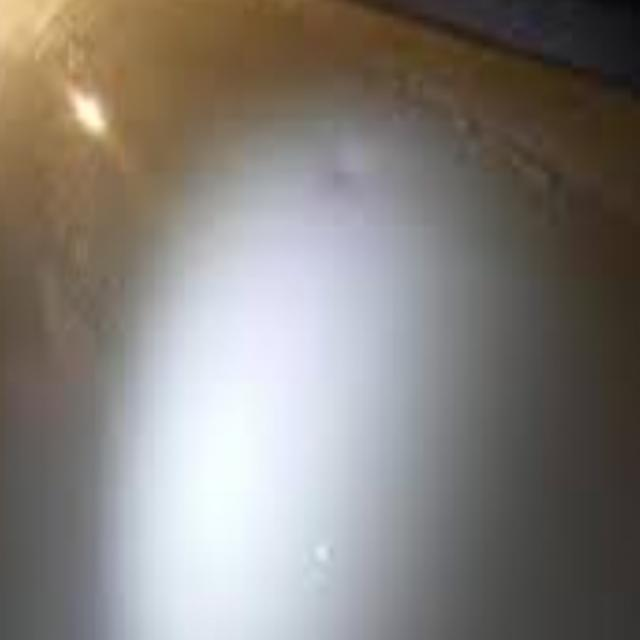dents: (278, 104, 397, 215)
